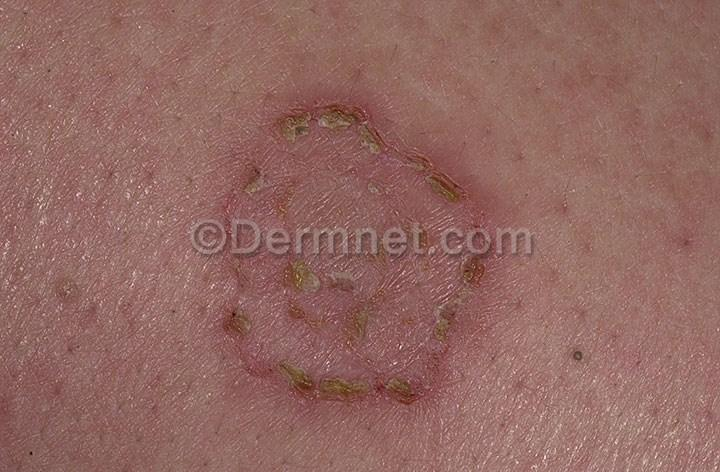Eczema: (195, 127, 486, 417)
